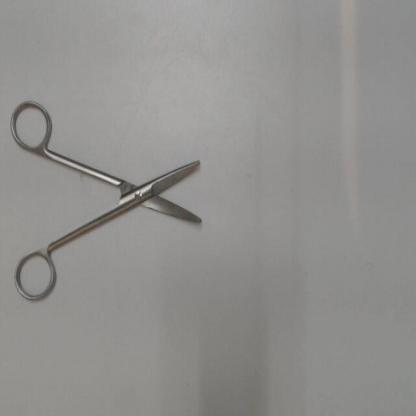Curved Mayo Scissors: (6, 92, 205, 310)
